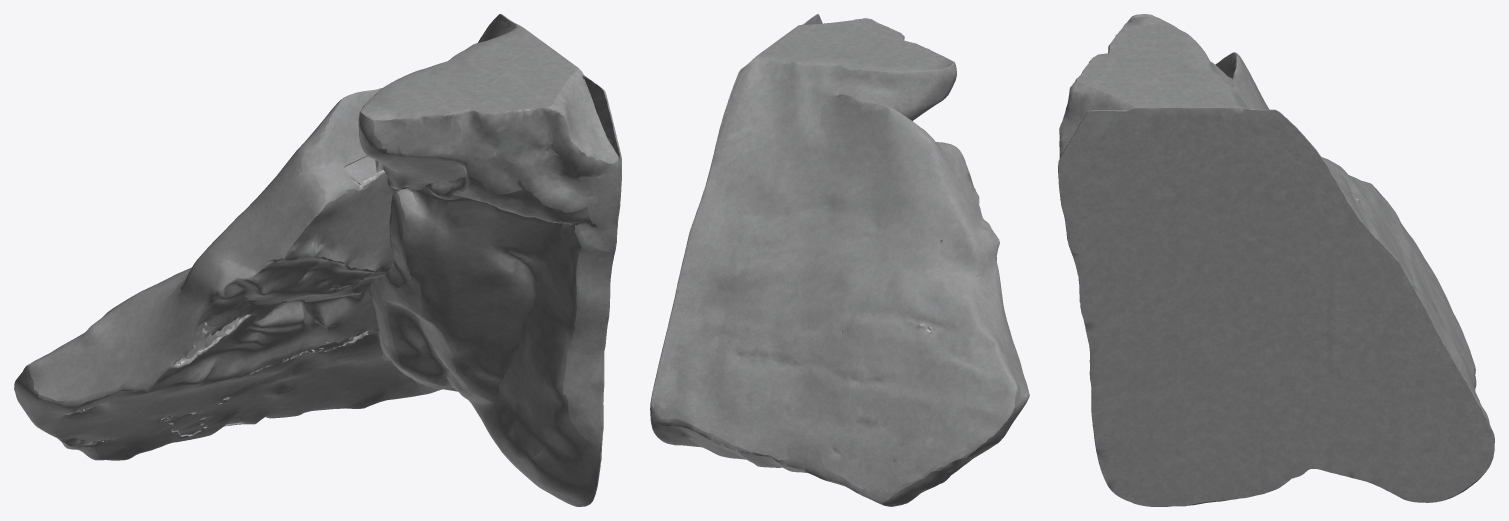
3 views of the same model, side by side, from view 1: azimuth 30°, elevation 25°; view 2: azimuth 150°, elevation 25°; view 3: azimuth 270°, elevation 25° (orthographic). The views are drawn at different scales.
Parts seen in each view (by area): view 1: world; view 2: world; view 3: world.
Boxes of the visible parts, x1,y1,x2,y2 form: world: [14, 14, 621, 506]; world: [650, 14, 1029, 506]; world: [1058, 14, 1494, 506].
Bounding box in the file's own units: 0.35 × 0.3495 × 0.3437.
Materials: 1 (1 with a texture image).
